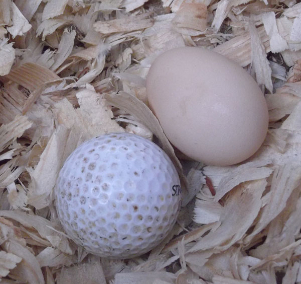egg: (139, 39, 275, 166)
stone: (49, 129, 188, 263)
